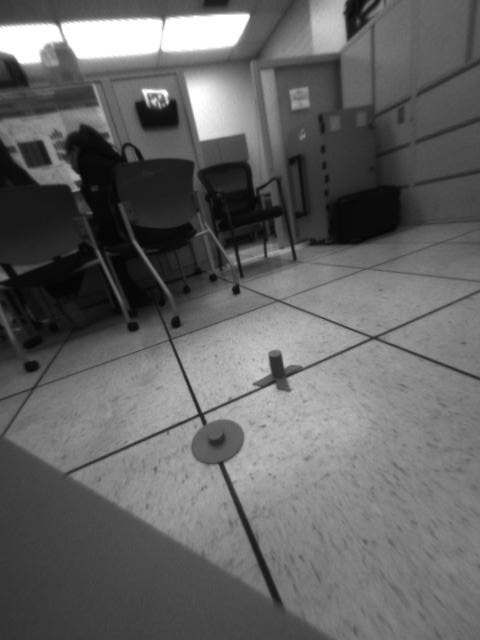X: (248, 347, 310, 393)
